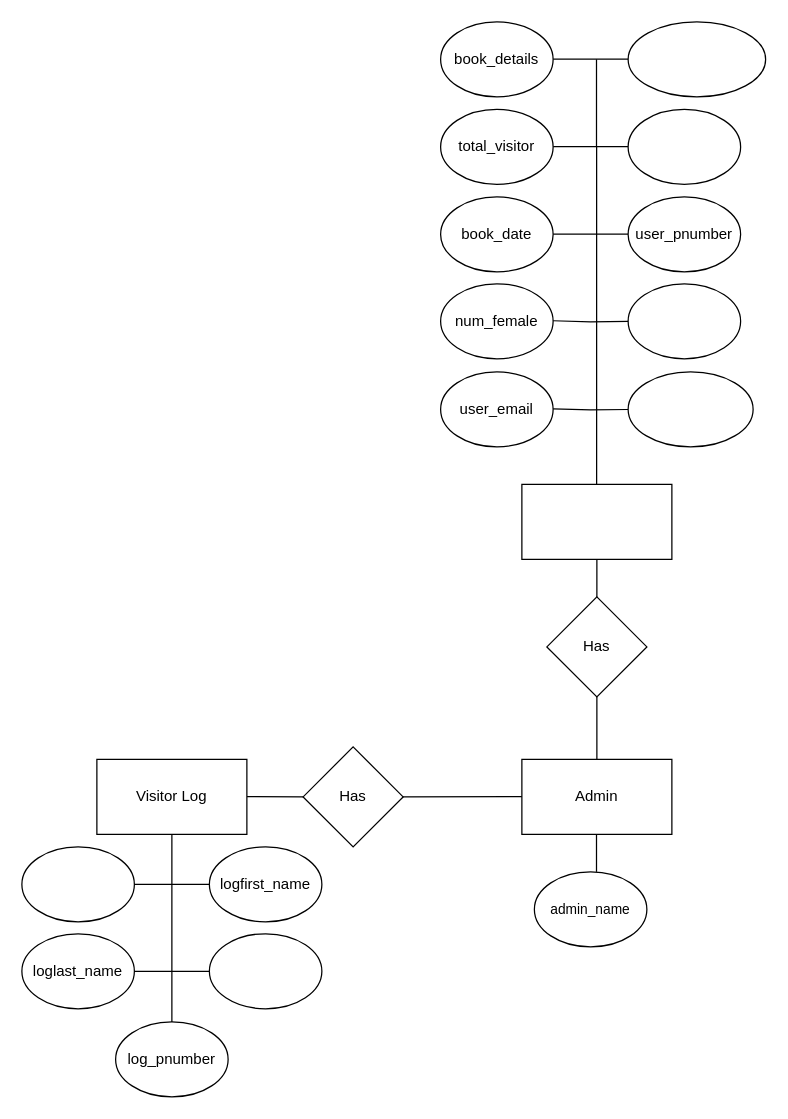
The diagram is 788 pixels wide and 1119 high, and some of its shapes have lost their labels. Each missing label, with the centre of its shape:
"Booking Details" belongs at point (596, 521).
"first_name" belongs at point (690, 409).
"last_name" belongs at point (684, 320).
"log book" belongs at point (77, 884).
"logmid_initial" belongs at point (265, 970).
"name_organization" belongs at point (696, 59).
"num_male" belongs at point (684, 146).
